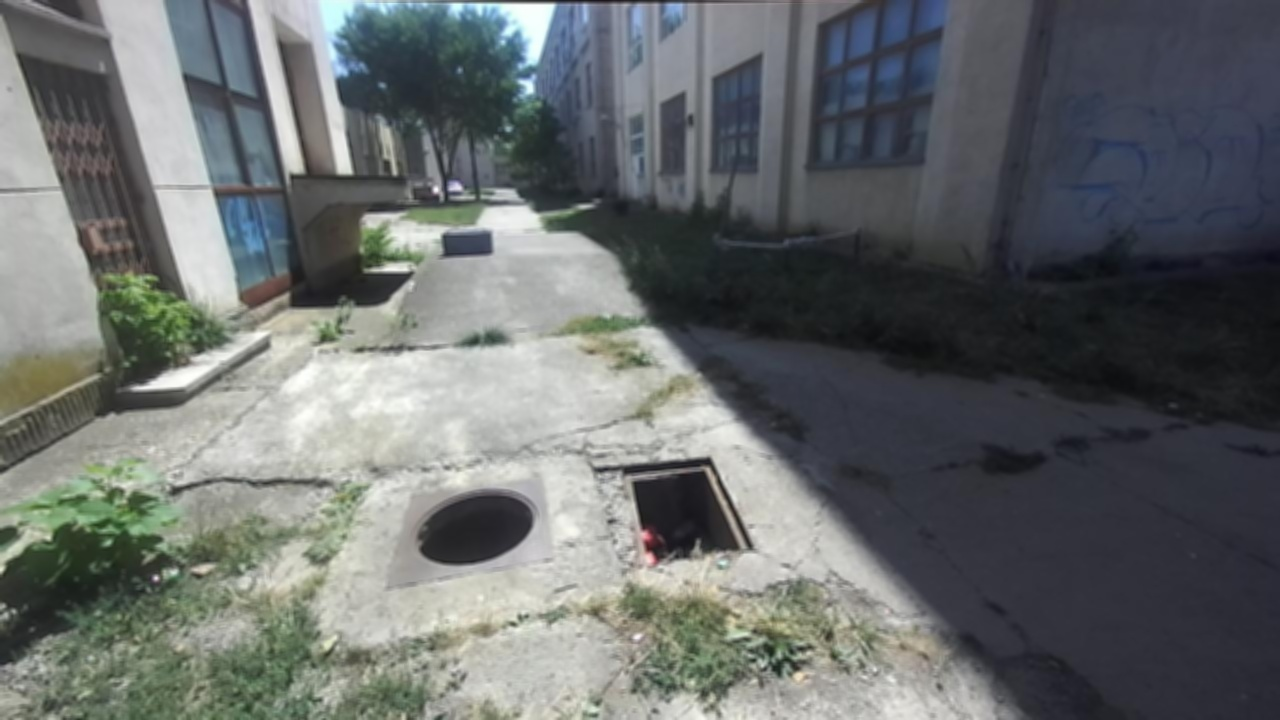drain: (612, 451, 759, 563), (407, 487, 543, 573)
